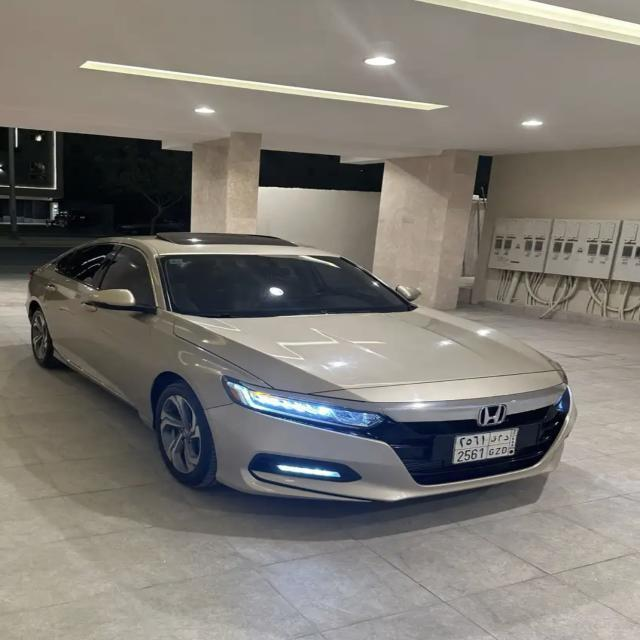license_plate: (454, 429, 520, 464)
